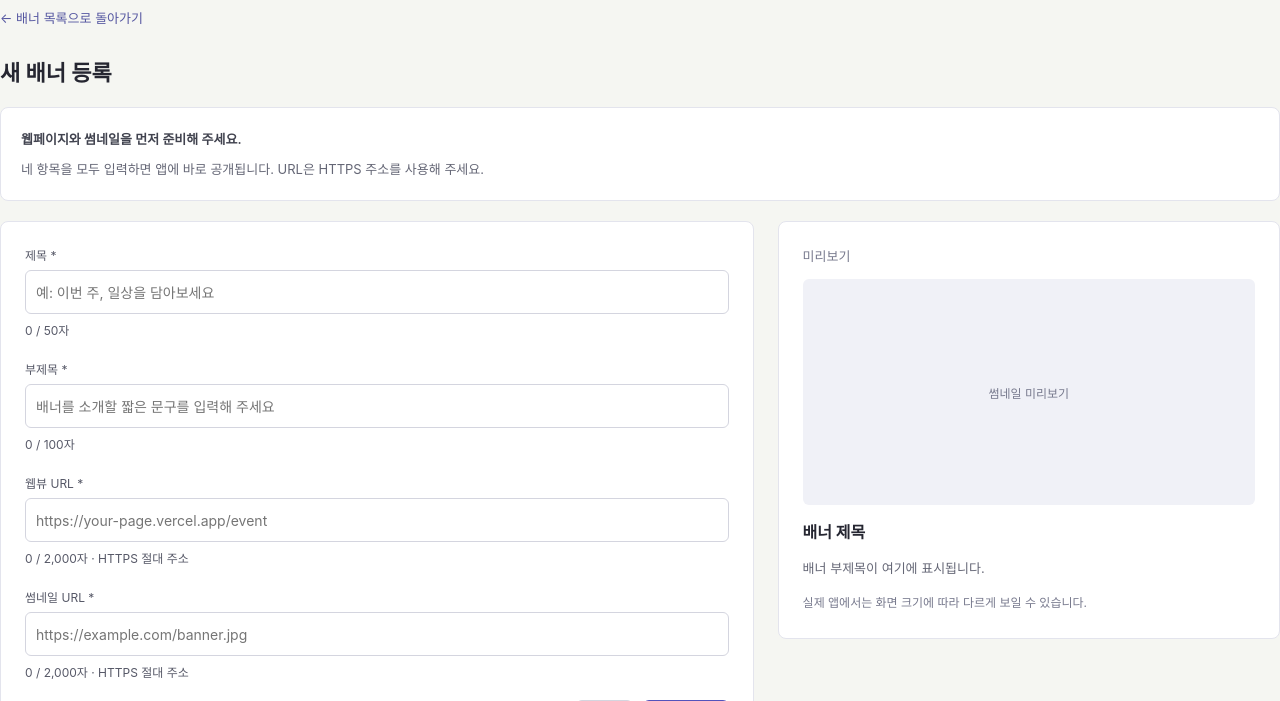
Scenario: banner screens › shows duplicate errors without automatic retries and keeps the form
Type "새 배너" into the field labelled "제목".
click(377, 292); type("새 배너")  # box [25,270,729,314]
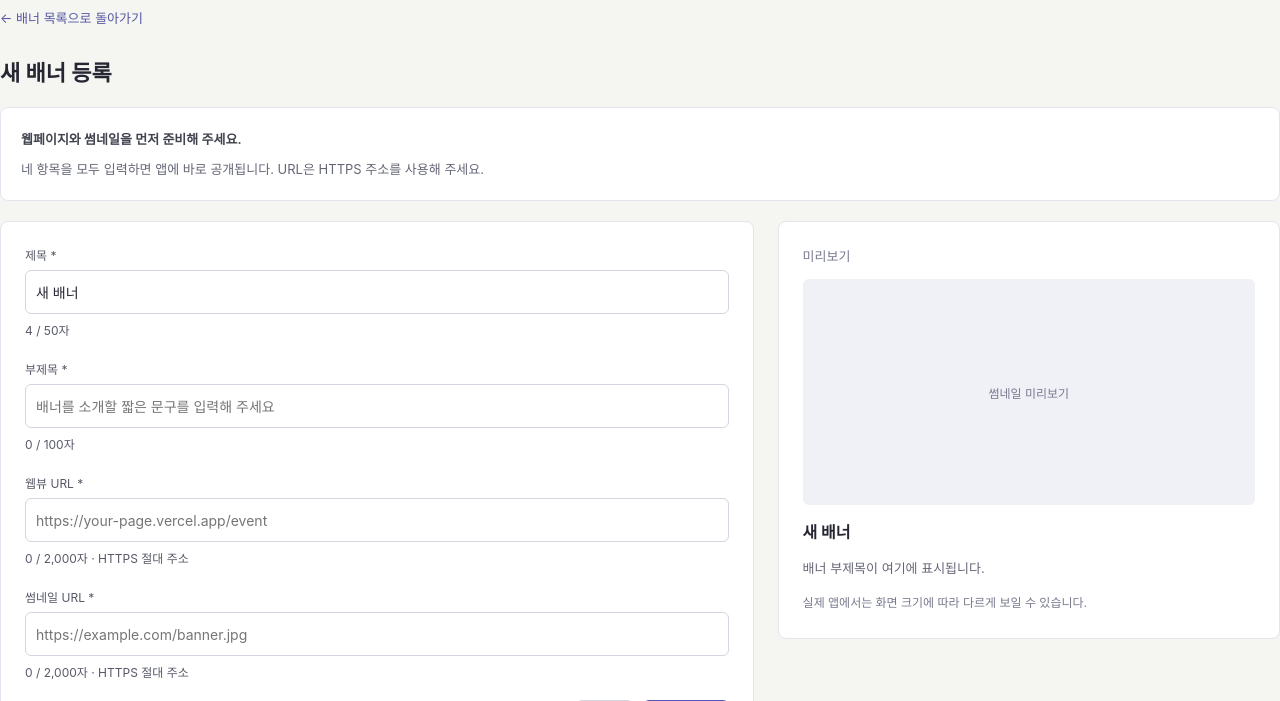
Type "부제목" into the field labelled "부제목".
click(377, 406); type("부제목")  # box [25,384,729,428]
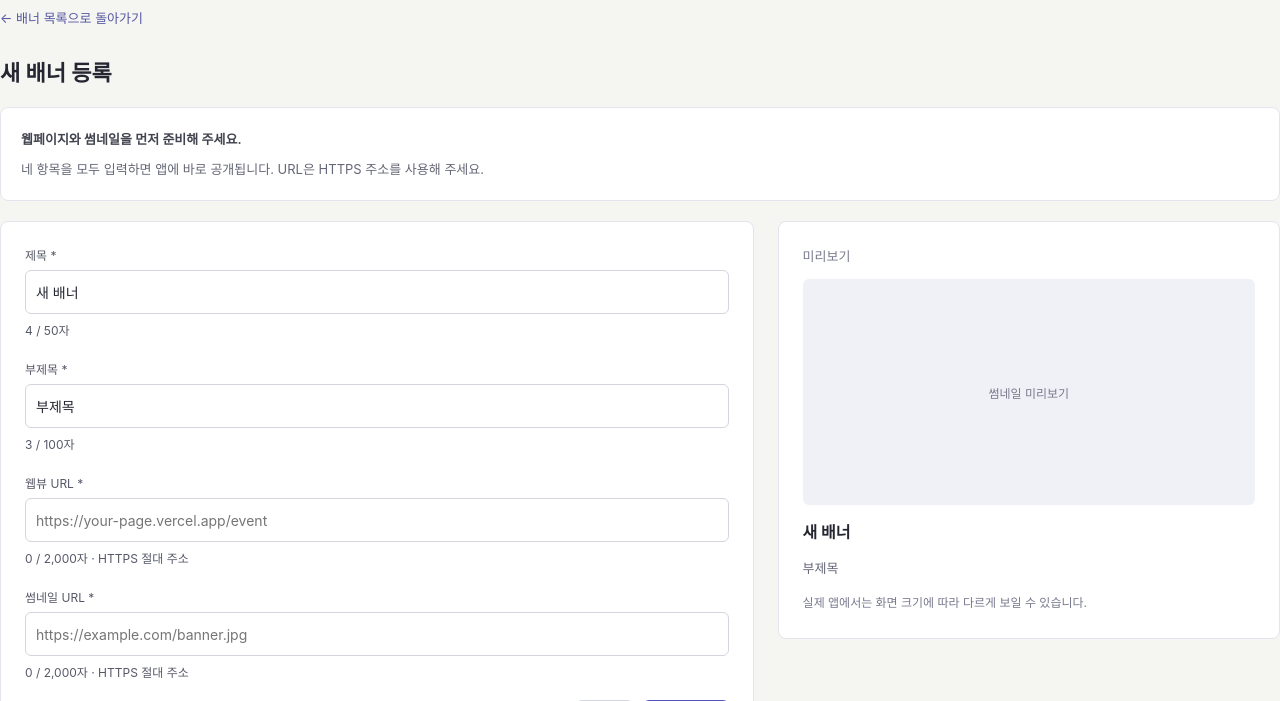
Type "https://example.com/event?source=home#top" into the field labelled "웹뷰 URL".
click(377, 520); type("https://example.com/event?source=home#top")  # box [25,498,729,542]
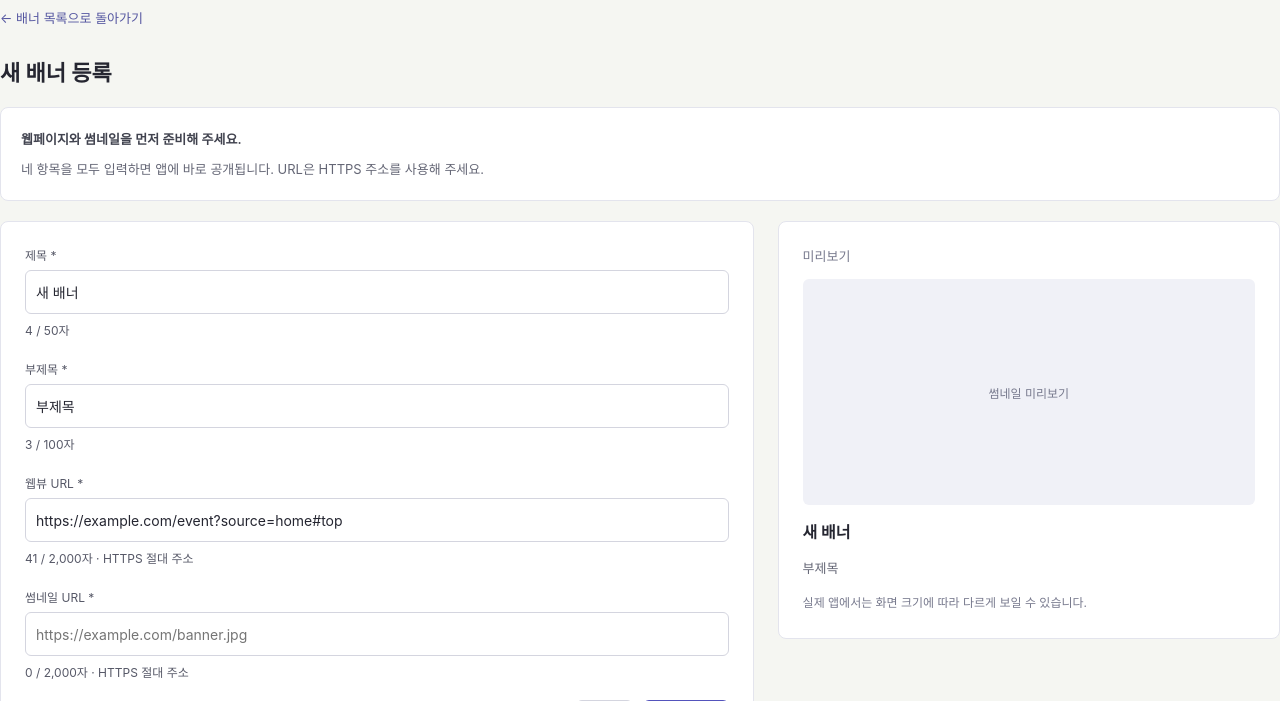
Type "https://example.com/image.png" into the field labelled "썸네일 URL".
click(377, 634); type("https://example.com/image.png")  # box [25,612,729,656]
(page scrolled)
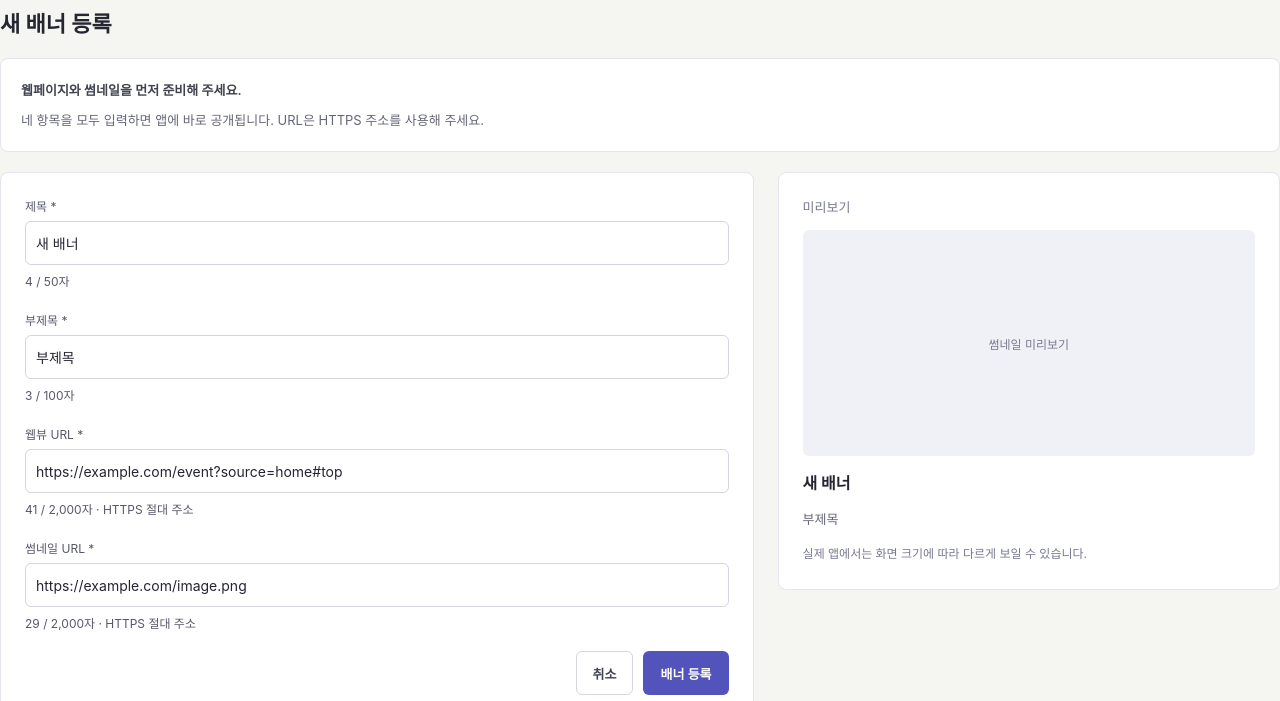
Click the button "배너 등록".
click(686, 673)  # box [644,651,729,695]
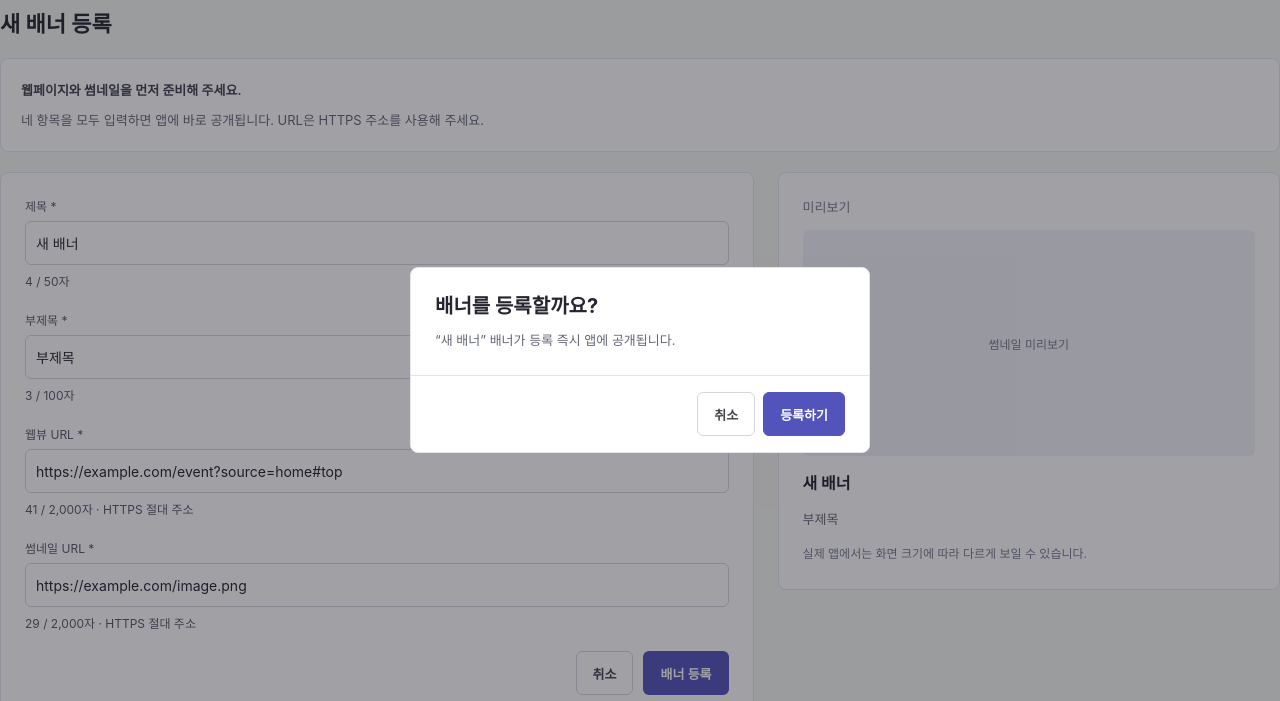
Click the button "등록하기".
click(804, 414)  # box [763,392,845,436]
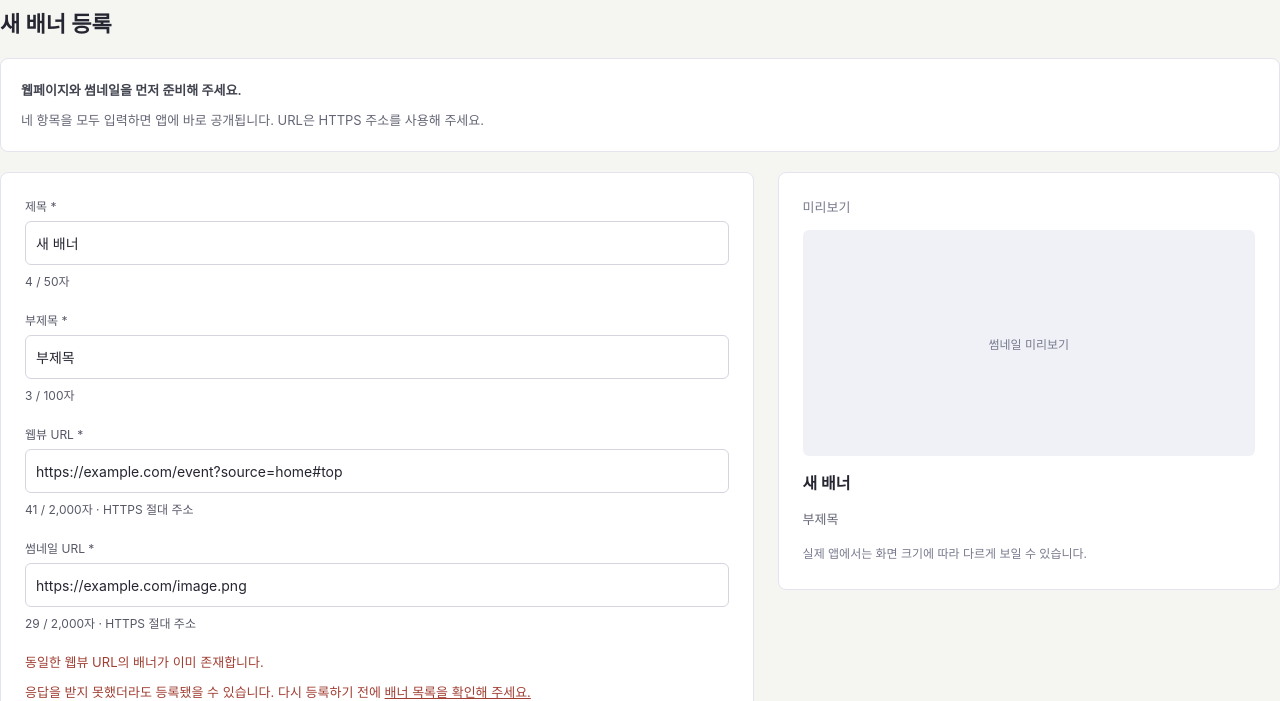
Expected: the message shows "동일한 웹뷰 URL", [25,654,264,670]
